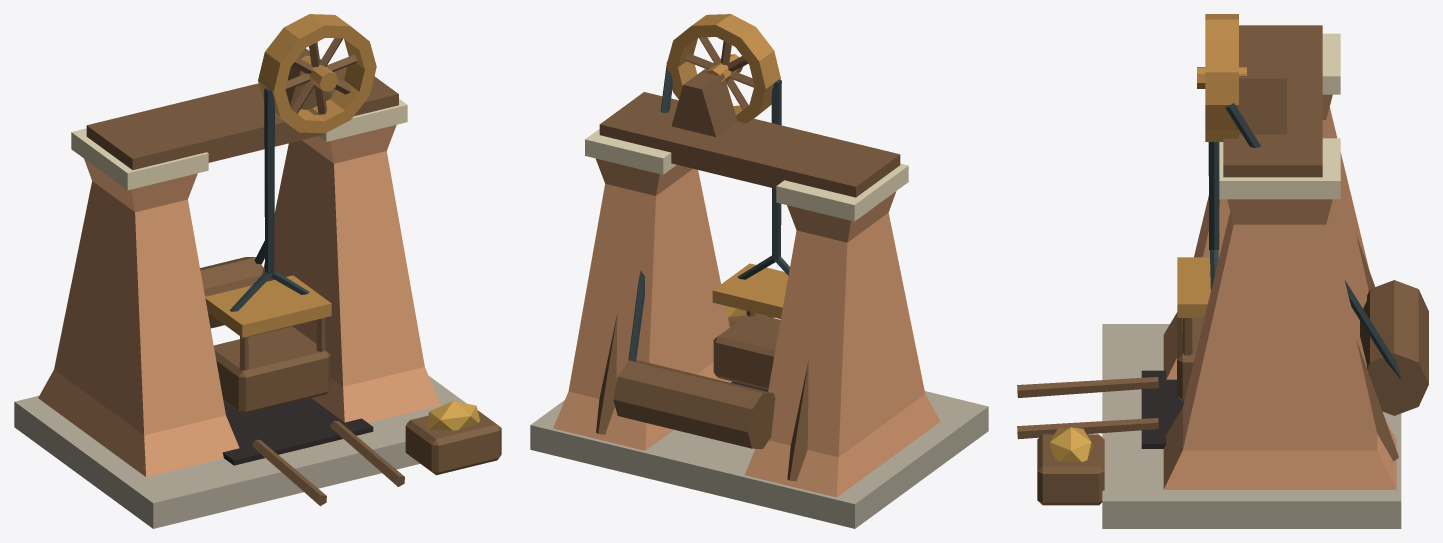
File: ns-mine-headframe.glb
3 views of the same model, side by side, from view 1: azimuth 30°, elevation 25°; view 2: azimuth 150°, elevation 25°; view 3: azimuth 270°, elevation 25° (orthographic). The views are drawn at different scales.
Parts seen in each view (by area): view 1: Work profile; view 2: Work profile; view 3: Work profile.
Boxes of the visible parts, <box> form: Work profile: <box>14,14,501,528</box>; Work profile: <box>530,14,988,528</box>; Work profile: <box>1017,14,1428,528</box>.
Bounding box in the file's own units: 0.536 × 0.63 × 0.5256.
